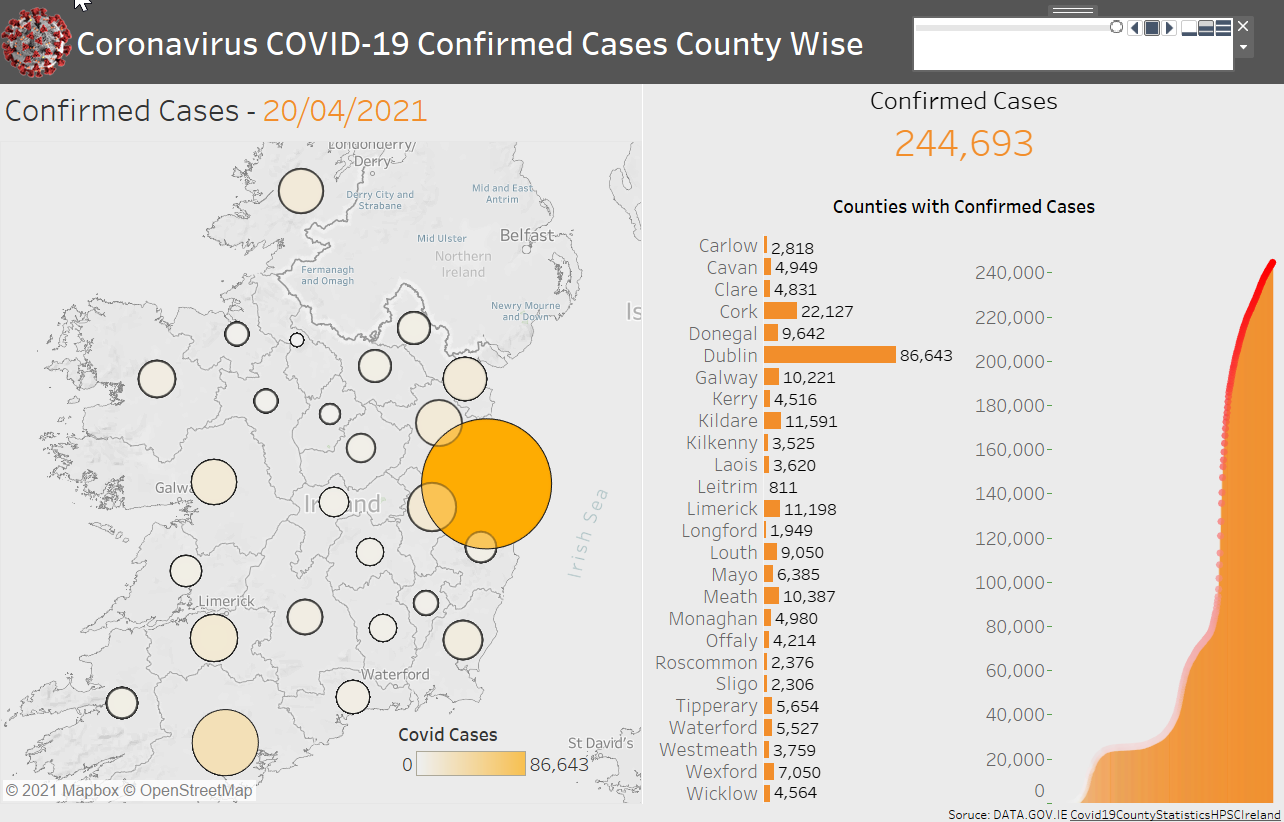

Layout of this report page (visuals, bound fields, positions):
{"tool":"tableau","page":{"name":"Dashboard 1","canvas":[1285,824],"ordinal":0},"visuals":[{"type":"worksheet","param":"vert","box":[0,1,1285,824]},{"type":"worksheet","param":"horz","box":[0,1,1285,84]},{"type":"worksheet","param":"Image/cod.png","box":[0,1,72,84]},{"type":"worksheet","box":[72,1,1213,84]},{"type":"worksheet","title":"Map","mark":"Automatic","rows":["Lat"],"cols":["Long"],"box":[914,19,319,52]},{"type":"worksheet","param":"horz","box":[0,85,1285,720]},{"type":"worksheet","title":"Map","mark":"Automatic","rows":["Lat"],"cols":["Long"],"box":[0,85,642,720]},{"type":"worksheet","param":"horz","box":[642,85,1,720]},{"type":"worksheet","param":"vert","box":[643,85,642,720]},{"type":"worksheet","title":"numbers","mark":"Automatic","box":[643,85,642,94]},{"type":"worksheet","box":[643,179,642,56]},{"type":"worksheet","param":"horz","box":[643,235,642,569.9]},{"type":"worksheet","title":"Confirmed Cases Bars","mark":"Bar","rows":["CountyName"],"cols":["ConfirmedCovidCases"],"box":[643,235,321,569.9]},{"type":"worksheet","title":"Confirmed Cases Line","mark":"Line","rows":["ConfirmedCovidCases","ConfirmedCovidCases"],"cols":["Date"],"box":[964,235,321,569.9]},{"type":"worksheet","title":"Map","mark":"Automatic","rows":["Lat"],"cols":["Long"],"param":"[federated.1lle3lu1wuxhoa17xkk9m0f71tse].[sum:ConfirmedCovidCases:qk]","box":[398,722,196,64]},{"type":"worksheet","box":[0,805,1285,20]}]}

Visuals, with their boxes on the page's 1285x824 design canvas (x1, y1, x2, y2). These are canvas units, not pixel positions in the 1284x822 screenshot, which may show the page scaled, cropped or inside an application window:
worksheet: bbox=[0, 1, 1285, 825]
worksheet: bbox=[0, 1, 1285, 85]
worksheet: bbox=[0, 1, 72, 85]
worksheet: bbox=[72, 1, 1285, 85]
"Map" worksheet: bbox=[914, 19, 1233, 71]
worksheet: bbox=[0, 85, 1285, 805]
"Map" worksheet: bbox=[0, 85, 642, 805]
worksheet: bbox=[642, 85, 643, 805]
worksheet: bbox=[643, 85, 1285, 805]
"numbers" worksheet: bbox=[643, 85, 1285, 179]
worksheet: bbox=[643, 179, 1285, 235]
worksheet: bbox=[643, 235, 1285, 805]
"Confirmed Cases Bars" worksheet (Bar marks): bbox=[643, 235, 964, 805]
"Confirmed Cases Line" worksheet (Line marks): bbox=[964, 235, 1285, 805]
"Map" worksheet: bbox=[398, 722, 594, 786]
worksheet: bbox=[0, 805, 1285, 825]
